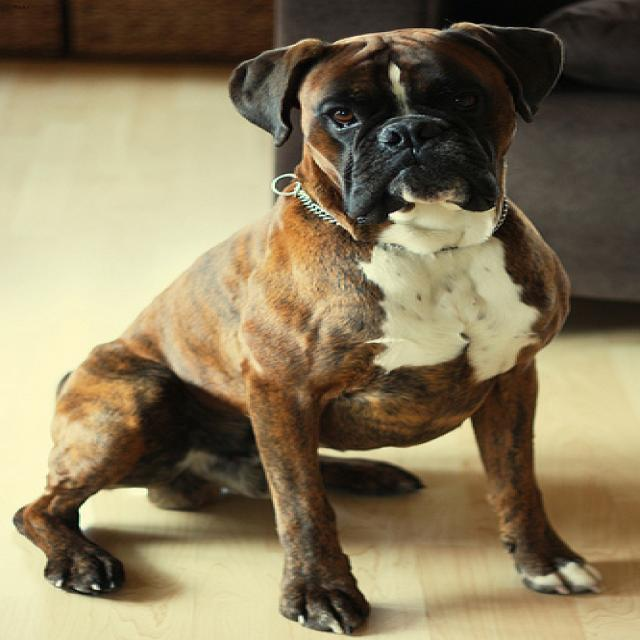dog-boxer: (6, 10, 611, 637)
